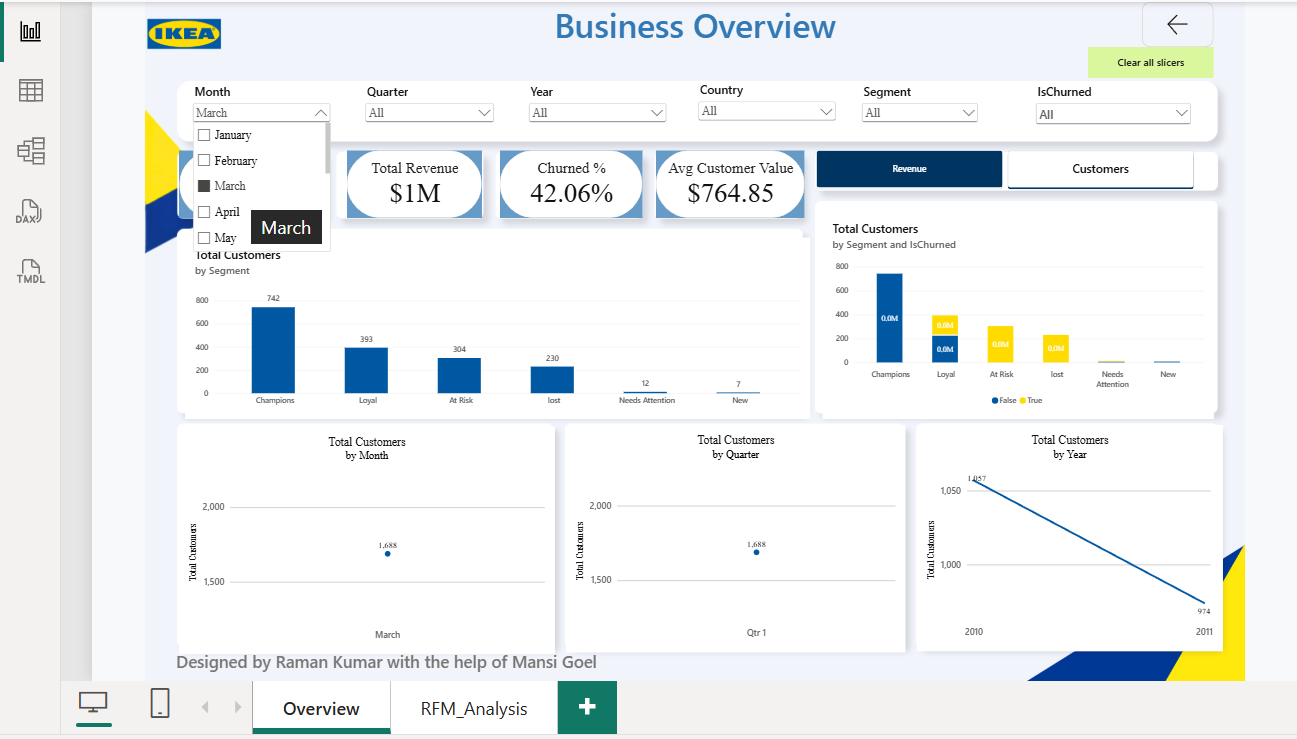

This screenshot's page, from the dashboard's own definition file:
{"tool":"powerbi","page":{"name":"Overview","canvas":[1920,1080],"ordinal":0},"visuals":[{"type":"cardVisual","fields":{"Data":["Sheet1.Total Customers"]},"box":[138.4,236.2,229,107.4],"z":0},{"type":"lineChart","fields":{"Category":["Sheet1.InvoiceDate.Variation.Date Hierarchy.Month"],"Y":["Sheet1.Total Customers"]},"box":[137.8,673.3,597.8,362.2],"z":0,"group":"g1"},{"type":"cardVisual","fields":{"Data":["Sheet1.Total Revenue"]},"box":[405.6,236.2,214.7,107.4],"z":1000},{"type":"lineChart","fields":{"Category":["Sheet1.InvoiceDate.Variation.Date Hierarchy.Quarter"],"Y":["Sheet1.Total Customers"]},"box":[753.4,671.1,540,362.2],"z":1000,"group":"g1"},{"type":"cardVisual","fields":{"Data":["Sheet1.Churned %"]},"box":[649,236.2,226.7,107.4],"z":2000},{"type":"lineChart","fields":{"Category":["Sheet1.InvoiceDate.Variation.Date Hierarchy.Year"],"Y":["Sheet1.Total Customers"]},"box":[1311.1,671.1,486.7,360],"z":2000,"group":"g1"},{"type":"cardVisual","fields":{"Data":["Sheet1.Avg Customer Value"]},"box":[897.1,236.2,236.2,107.4],"z":3000},{"type":"columnChart","fields":{"Category":["Sheet1.Segment"],"Y":["Sheet1.Total Customers"]},"box":[148.4,372.7,994.9,288.7],"z":3000,"group":"g1"},{"type":"slicer","fields":{"Values":["Sheet1.Segment"]},"box":[1218.8,128.6,195.3,91.5],"z":4000},{"type":"columnChart","fields":{"Category":["Sheet1.Segment"],"Series":["Sheet1.IsChurned"],"Y":["Sheet1.Total Customers"]},"box":[1162.4,332.1,622.7,329.3],"z":4000,"group":"g1"},{"type":"slicer","fields":{"Values":["Sheet1.Country"]},"box":[959.2,126.1,229,90.7],"z":5000},{"type":"bookmarkNavigator","box":[1152.3,240,601.3,57.3],"z":5000,"group":"g1"},{"type":"slicer","fields":{"Values":["Sheet1.InvoiceDate.Variation.Date Hierarchy.Year"]},"box":[689.7,128.6,229,90.7],"z":6000},{"type":"slicer","fields":{"Values":["Sheet1.InvoiceDate.Variation.Date Hierarchy.Quarter"]},"box":[430.2,128.6,214.7,90.7],"z":7000},{"type":"slicer","fields":{"Values":["Sheet1.InvoiceDate.Variation.Date Hierarchy.Month"]},"box":[155.1,128.8,229,90.7],"z":8000},{"type":"pieChart","fields":{"Category":["Sheet1.Segment"],"Series":["Sheet1.IsChurned"],"Y":["Sheet1.Total Revenue"]},"box":[1152.4,322.1,622.7,329.3],"z":9000},{"type":"group","id":"g1","title":"Customers","box":[137.8,240,1660,795.6],"z":10000},{"type":"bookmarkNavigator","box":[1152,237.3,600.7,59.3],"z":12000},{"type":"slicer","fields":{"Values":["Sheet1.IsChurned"]},"box":[1495.6,128.6,257.1,93.9],"z":13000},{"type":"textbox","box":[39.1,0,1841.7,101.4],"z":14000},{"type":"image","box":[39.6,0,212.6,101.4],"z":15000},{"type":"textbox","box":[126.1,1030.9,719.4,49.4],"z":16000},{"type":"actionButton","box":[1671.2,0,113.7,71.7],"z":17000},{"type":"actionButton","box":[1584.6,71.7,200.2,49.4],"z":18000}]}

Visuals, with their boxes on the page's 1920x1080 design canvas (x1, y1, x2, y2). These are canvas units, not pixel positions in the 1297x739 screenshot, which may show the page scaled, cropped or inside an application window:
cardVisual - Sheet1.Total Customers: 138,236,367,344
lineChart - Sheet1.InvoiceDate.Variation.Date Hierarchy.Month x Sheet1.Total Customers: 138,673,736,1036
cardVisual - Sheet1.Total Revenue: 406,236,620,344
lineChart - Sheet1.InvoiceDate.Variation.Date Hierarchy.Quarter x Sheet1.Total Customers: 753,671,1293,1033
cardVisual - Sheet1.Churned %: 649,236,876,344
lineChart - Sheet1.InvoiceDate.Variation.Date Hierarchy.Year x Sheet1.Total Customers: 1311,671,1798,1031
cardVisual - Sheet1.Avg Customer Value: 897,236,1133,344
columnChart - Sheet1.Segment x Sheet1.Total Customers: 148,373,1143,661
slicer - Sheet1.Segment: 1219,129,1414,220
columnChart - Sheet1.Segment x Sheet1.IsChurned: 1162,332,1785,661
slicer - Sheet1.Country: 959,126,1188,217
bookmarkNavigator: 1152,240,1754,297
slicer - Sheet1.InvoiceDate.Variation.Date Hierarchy.Year: 690,129,919,219
slicer - Sheet1.InvoiceDate.Variation.Date Hierarchy.Quarter: 430,129,645,219
slicer - Sheet1.InvoiceDate.Variation.Date Hierarchy.Month: 155,129,384,220
pieChart - Sheet1.Segment x Sheet1.IsChurned: 1152,322,1775,651
"Customers" group: 138,240,1798,1036
bookmarkNavigator: 1152,237,1753,297
slicer - Sheet1.IsChurned: 1496,129,1753,222
textbox: 39,0,1881,101
image: 40,0,252,101
textbox: 126,1031,846,1080
actionButton: 1671,0,1785,72
actionButton: 1585,72,1785,121
